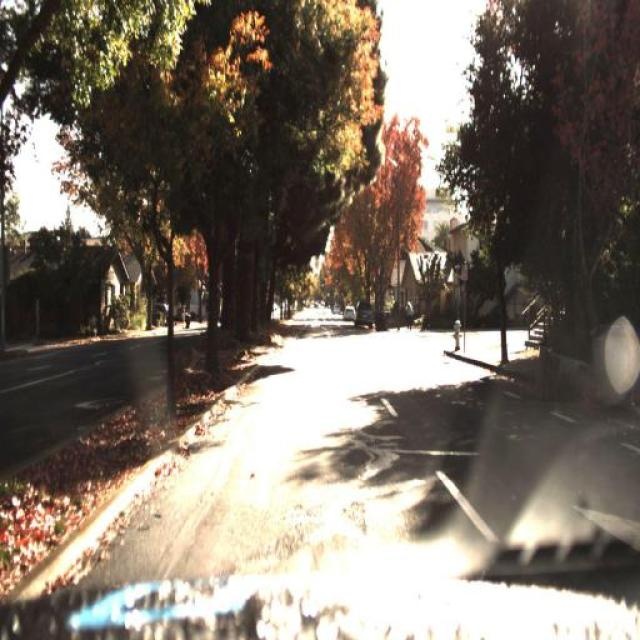car: (352, 305, 376, 336)
trafficLight: (401, 293, 415, 332), (404, 291, 414, 330)
